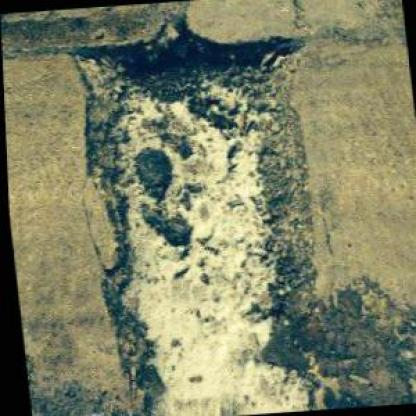pothole: (63, 13, 352, 414)
